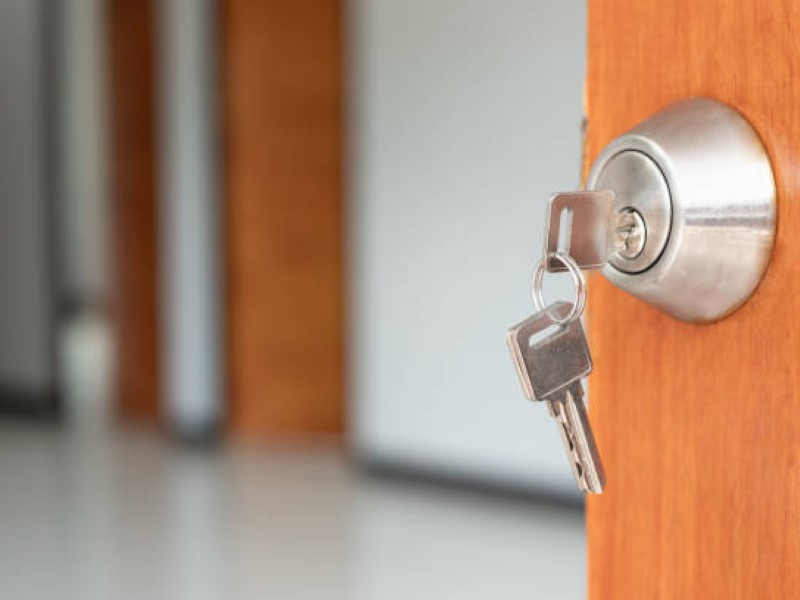key: (503, 296, 611, 498), (543, 187, 645, 273)
